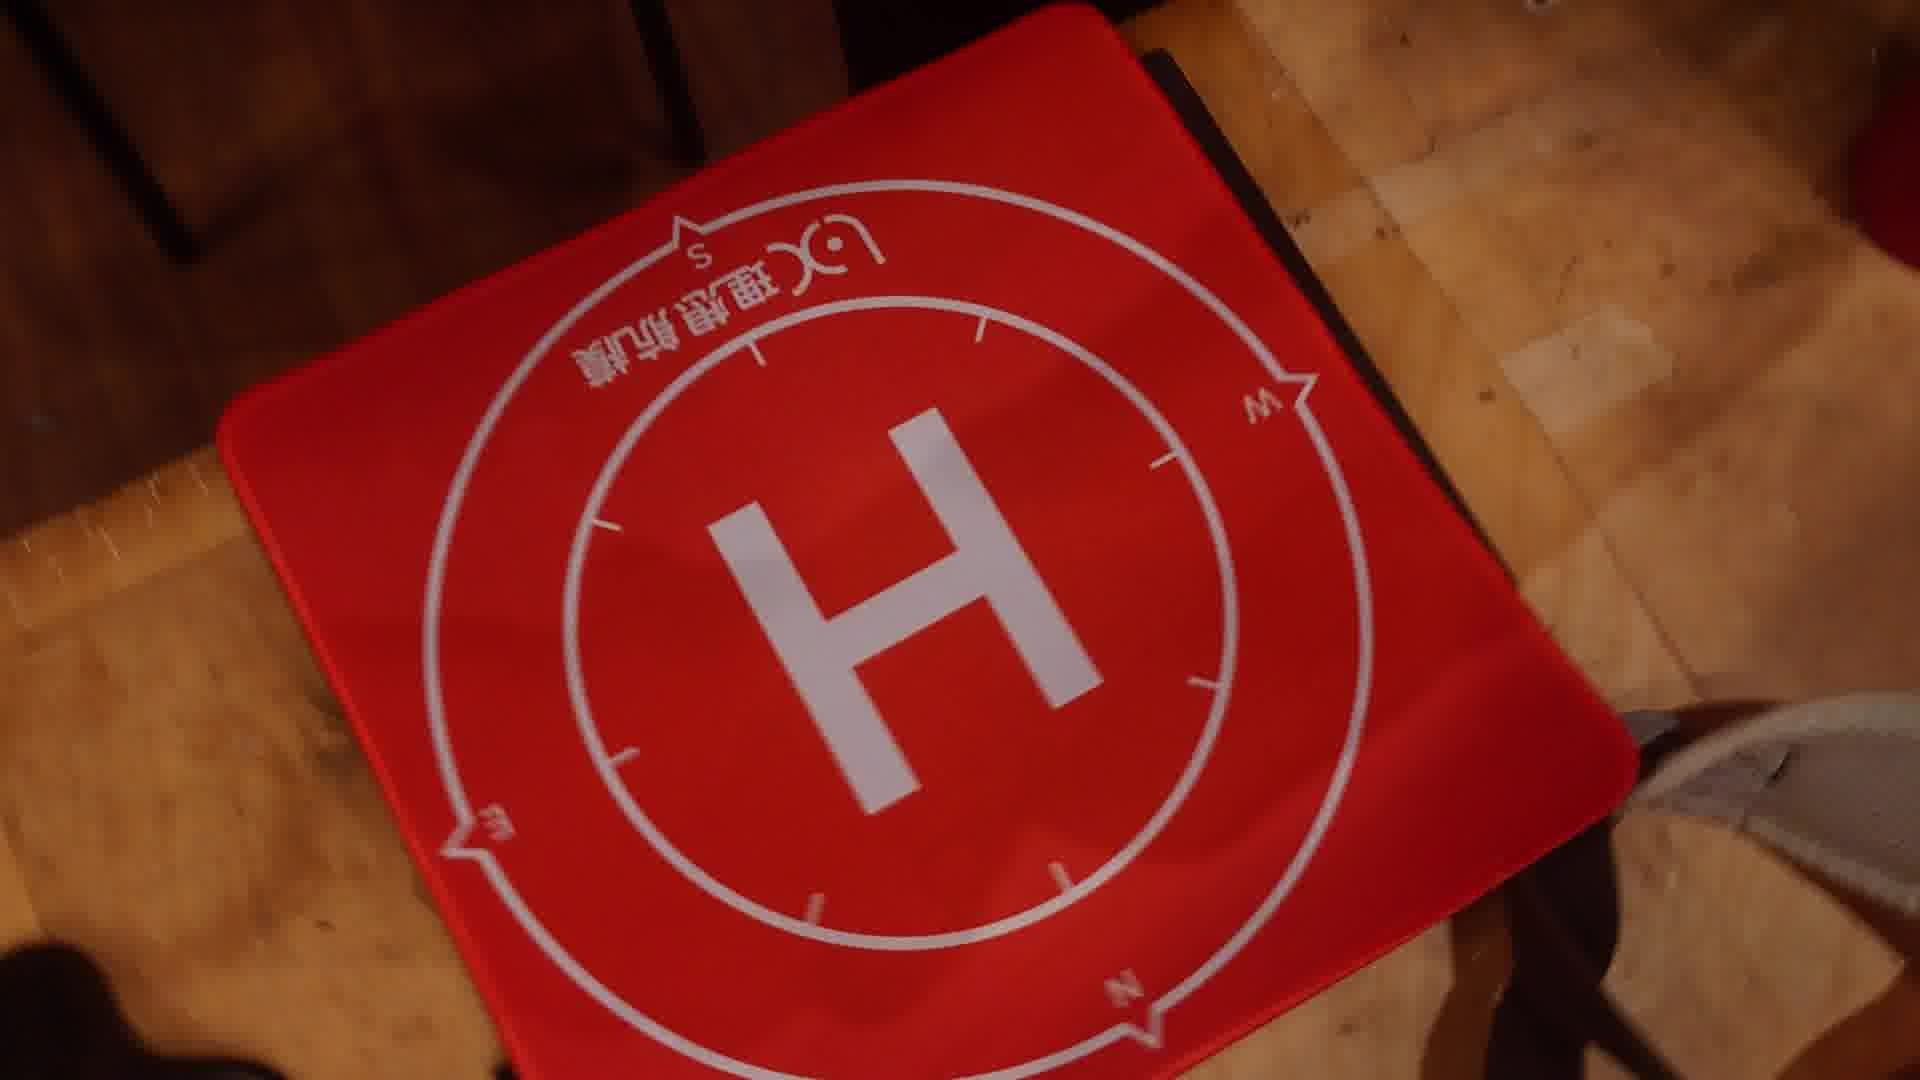H: (705, 404, 1112, 819)
